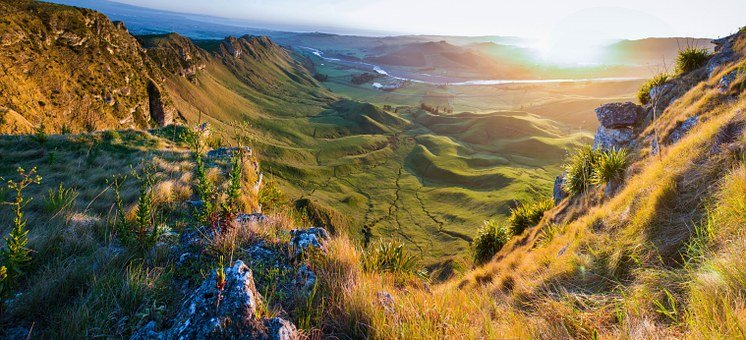mountain: (14, 9, 746, 335)
